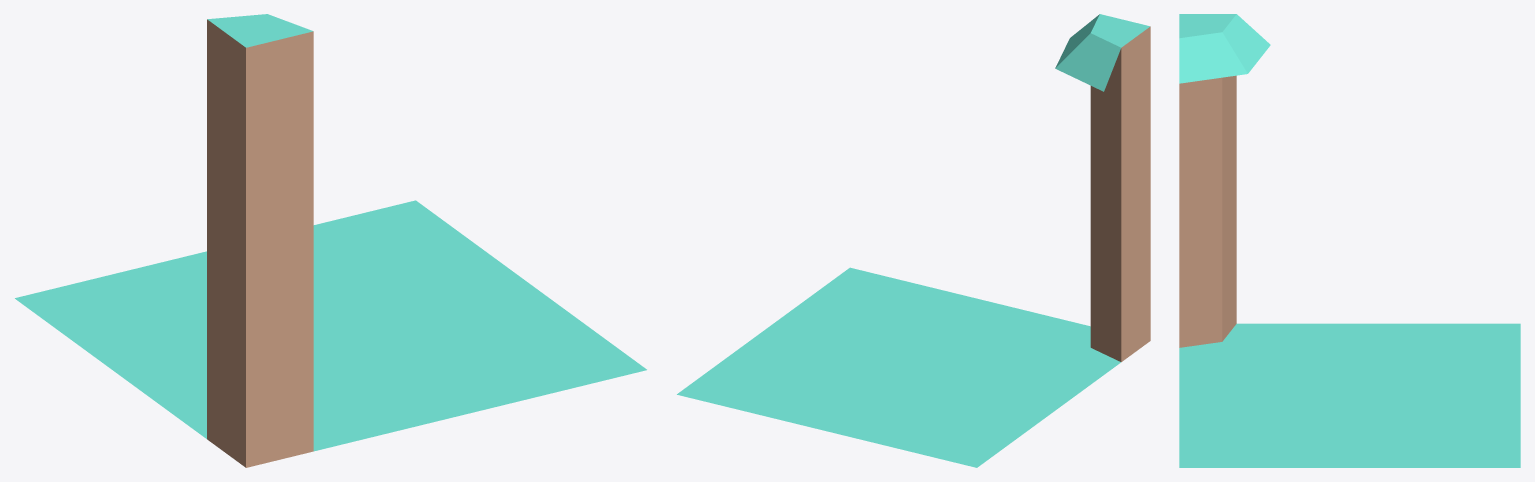
File: cliff_cornerTop_rock_grass.glb
The picture shows the model from 3 angles, left to right: view 1: azimuth 30°, elevation 25°; view 2: azimuth 150°, elevation 25°; view 3: azimuth 270°, elevation 25°; orthographic projection. The views are drawn at different scales.
Parts seen in each view (by area): view 1: cliff_cornerTop_rock_grass; view 2: cliff_cornerTop_rock_grass; view 3: cliff_cornerTop_rock_grass.
Boxes of the visible parts, x1,y1,x2,y2 form: cliff_cornerTop_rock_grass: (15, 14, 646, 467); cliff_cornerTop_rock_grass: (677, 14, 1150, 467); cliff_cornerTop_rock_grass: (1179, 14, 1520, 467).
Bounding box in the file's own units: 1 × 1 × 1.
